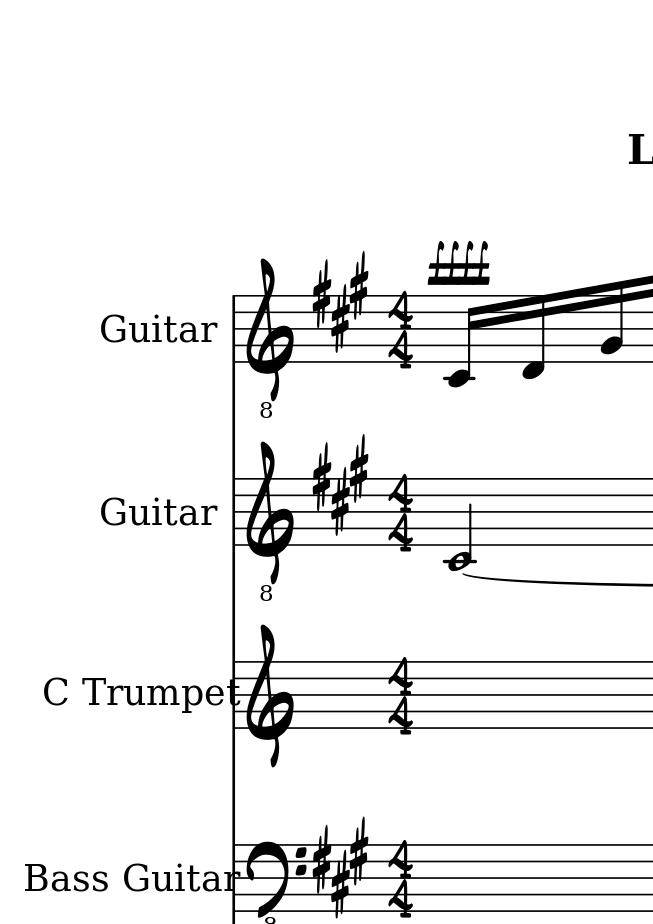16_-1: (520, 292, 548, 383)
16_-2: (444, 293, 480, 386)
16_2: (598, 278, 625, 366)
2_-2: (445, 478, 474, 572)
4: (387, 512, 422, 553), (386, 696, 419, 735), (387, 655, 418, 696), (387, 837, 417, 879), (387, 879, 419, 918), (388, 472, 418, 513), (389, 329, 417, 370), (388, 289, 414, 328)
A_S: (311, 816, 373, 924), (310, 249, 372, 353), (308, 436, 369, 536)
Bass: (23, 861, 111, 894)
Gclef: (248, 623, 293, 770)
Guit: (98, 312, 179, 346), (99, 493, 180, 527), (120, 861, 201, 895)
Lower_Gclef: (245, 439, 294, 603), (244, 260, 293, 424)
Single_barline: (228, 841, 243, 919), (227, 661, 243, 731), (228, 294, 241, 364), (229, 477, 241, 547)
TimeSig: (385, 290, 415, 371), (385, 474, 415, 555), (385, 656, 415, 737), (384, 840, 414, 921)
ffff: (423, 238, 493, 286)
